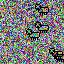sheep: (35, 3, 49, 15), (35, 22, 49, 34), (26, 28, 40, 40), (49, 48, 64, 59), (52, 51, 64, 62)
